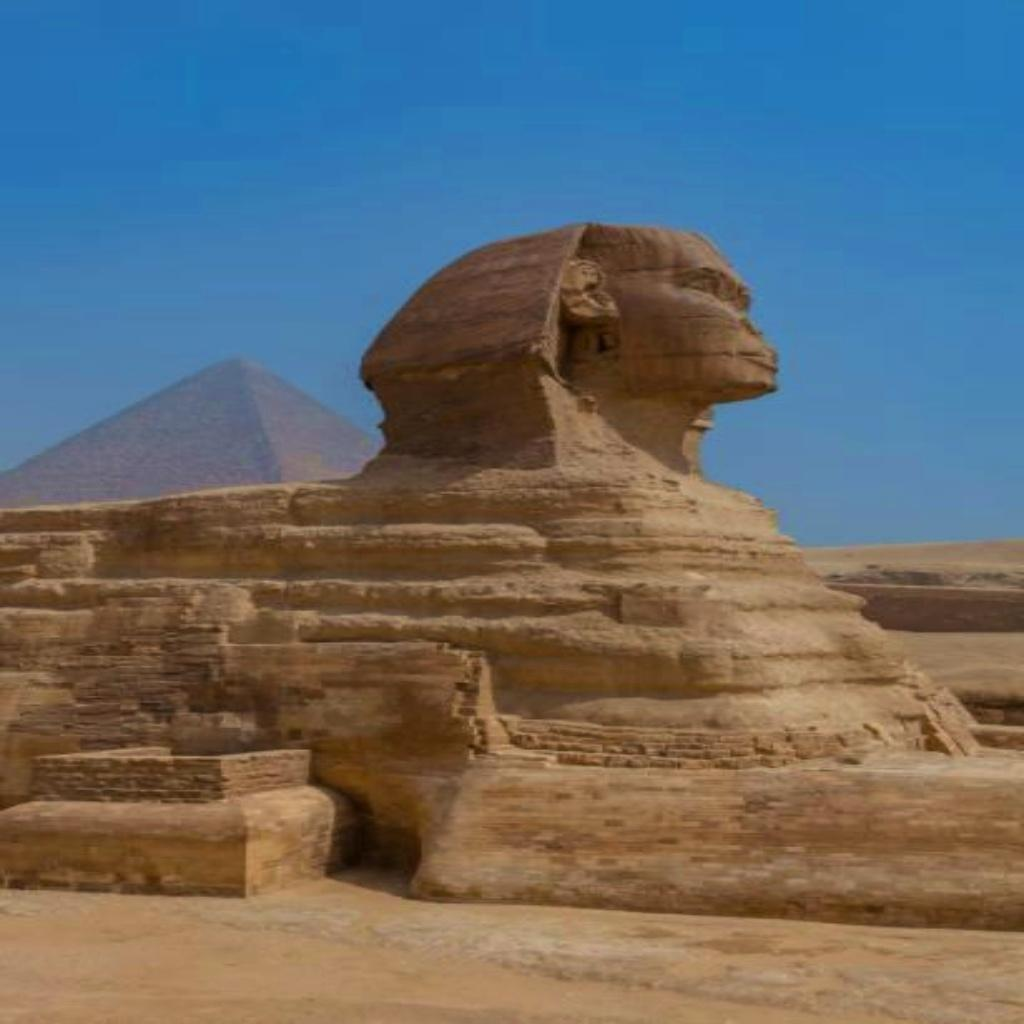Sphinx: (0, 218, 1019, 926)
